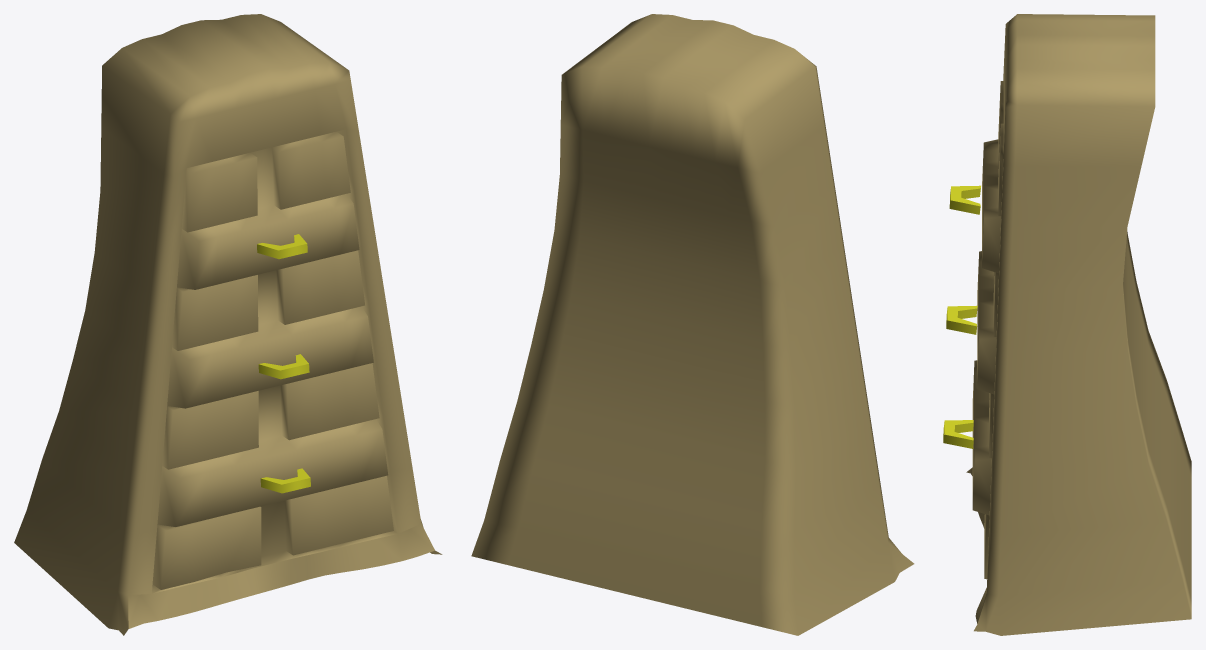
File: mod_prop_evidencestash.fbx
The picture shows the model from 3 angles, left to right: view 1: azimuth 30°, elevation 25°; view 2: azimuth 150°, elevation 25°; view 3: azimuth 270°, elevation 25°; orthographic projection. The views are drawn at different scales.
Visible parts, largest first — view 1: pCube1, pCube3, pCube4, pCube2; view 2: pCube1; view 3: pCube1, pCube3, pCube4, pCube2.
Part boxes in pixels (x1,y1,x2,y2): pCube1: (14,14,442,635); pCube3: (258,354,309,379); pCube4: (257,234,307,259); pCube2: (260,468,310,493); pCube1: (471,14,914,635); pCube1: (966,14,1191,635); pCube3: (946,305,977,334); pCube4: (949,185,980,214); pCube2: (943,420,973,448).
Bounding box in the file's own units: 6.58 × 9.99 × 4.35.
